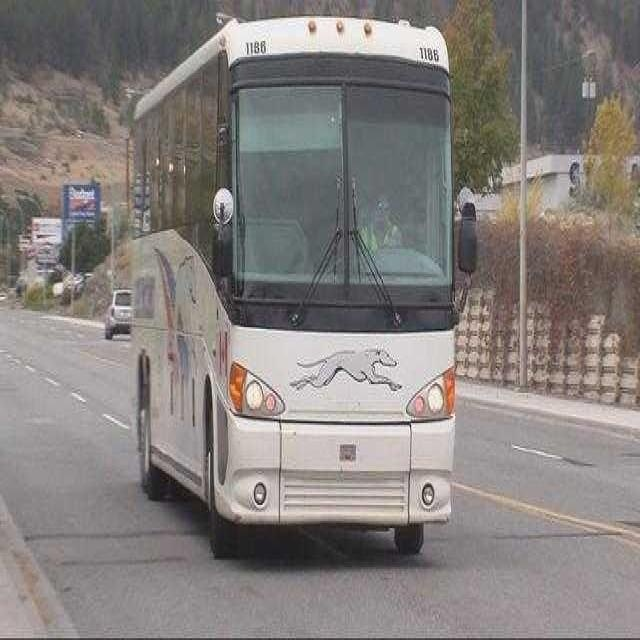Bus: (129, 9, 482, 574)
